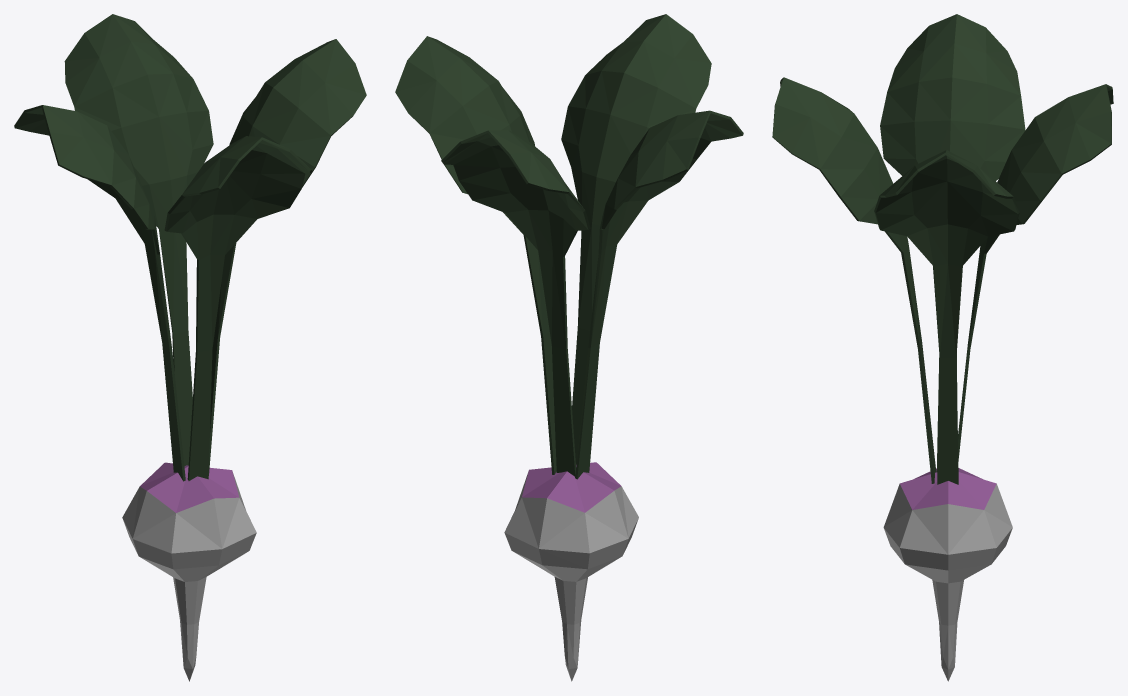
Rendered from turnip.glb.
The picture shows the model from 3 angles, left to right: view 1: azimuth 30°, elevation 25°; view 2: azimuth 150°, elevation 25°; view 3: azimuth 270°, elevation 25°; orthographic projection.
Visible parts, largest first — view 1: Turnip; view 2: Turnip; view 3: Turnip.
Boxes of the visible parts, x1=… form: Turnip: x1=14, y1=14, x2=366, y2=681; Turnip: x1=395, y1=14, x2=743, y2=681; Turnip: x1=772, y1=14, x2=1113, y2=681.
Bounding box in the file's own units: 1.25 × 2.39 × 1.23.
